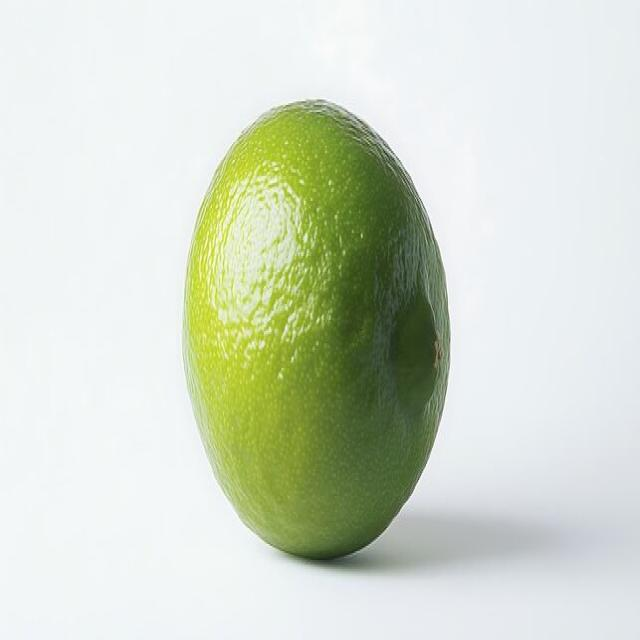Lemon: (181, 96, 451, 560)
